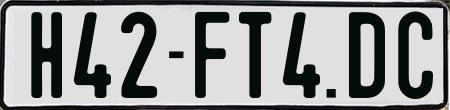2: (118, 10, 154, 99)
4: (72, 9, 114, 100), (283, 9, 320, 99)
C: (398, 9, 433, 101)
D: (346, 9, 387, 99)
F: (193, 10, 233, 98)
H: (31, 9, 65, 101)
T: (237, 11, 269, 98)
